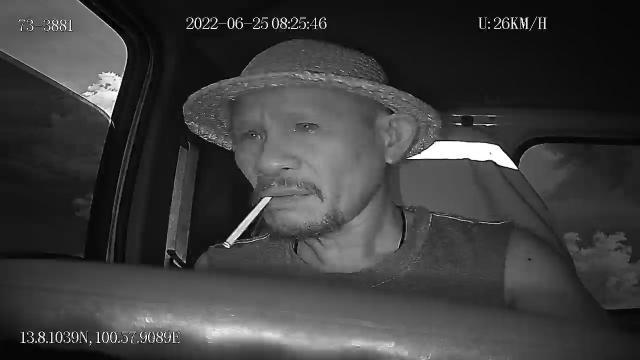SafeDriving: (287, 113, 326, 136), (240, 124, 270, 144)
Smoking: (222, 198, 272, 250)
